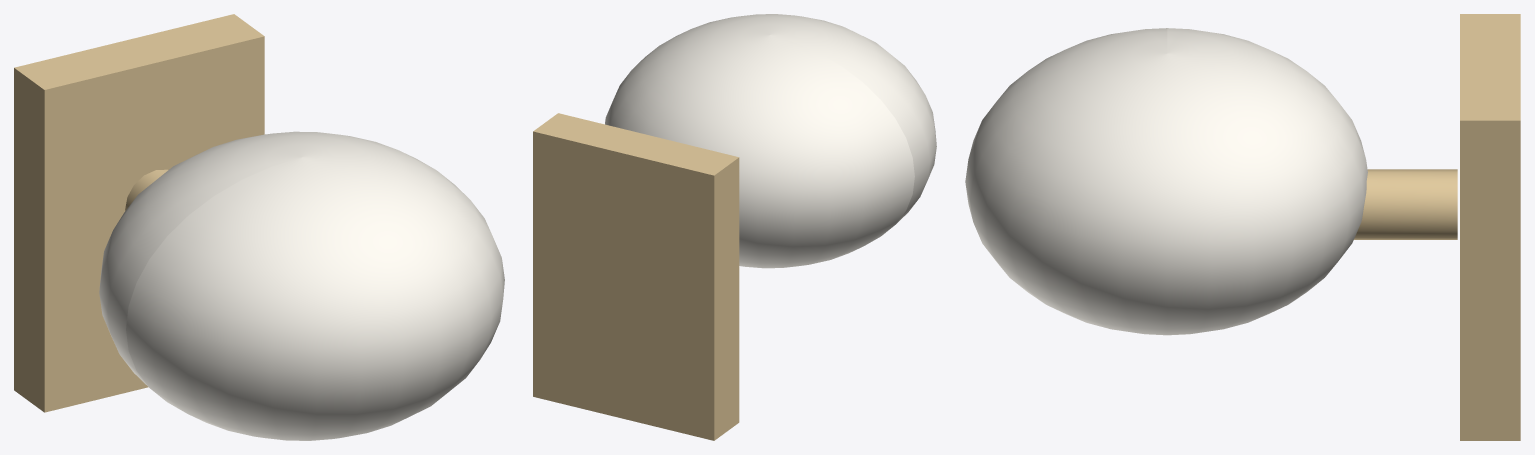
Rendered from reading_lamp.glb.
The picture shows the model from 3 angles, left to right: view 1: azimuth 30°, elevation 25°; view 2: azimuth 150°, elevation 25°; view 3: azimuth 270°, elevation 25°; orthographic projection. The views are drawn at different scales.
Visible parts, largest first — view 1: shade, plate, arm; view 2: plate, shade; view 3: shade, plate, arm.
Boxes of the visible parts, x1,y1,x2,y2 form: shade: (99,131,504,440); plate: (14,14,264,412); arm: (125,169,168,210); plate: (533,113,739,440); shade: (605,14,936,268); shade: (965,28,1367,335); plate: (1460,14,1520,440); arm: (1354,169,1457,239).
Bounding box in the file's own units: 0.08 × 0.073 × 0.11.
